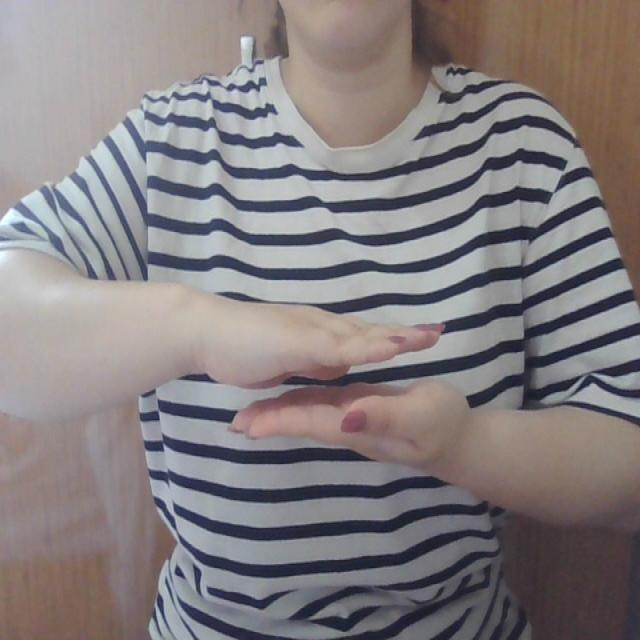Arkadas: (154, 266, 551, 488)
